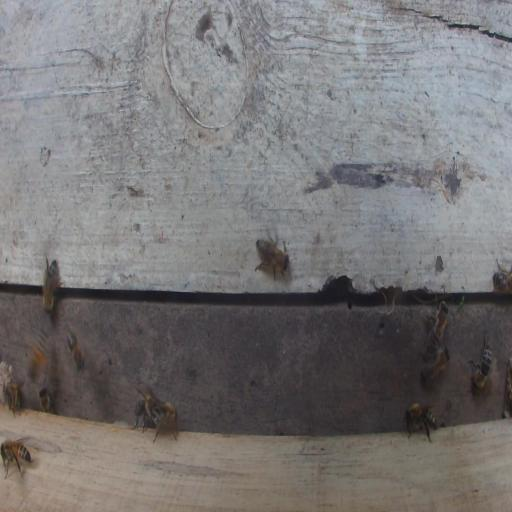bee: (254, 228, 290, 281), (466, 329, 492, 391), (24, 321, 50, 381), (424, 292, 449, 352), (1, 435, 33, 481), (132, 383, 159, 435), (42, 253, 64, 315), (152, 400, 180, 447), (418, 344, 450, 385), (406, 402, 438, 442), (64, 322, 85, 374), (490, 257, 511, 298), (4, 379, 25, 419), (38, 376, 58, 414)
